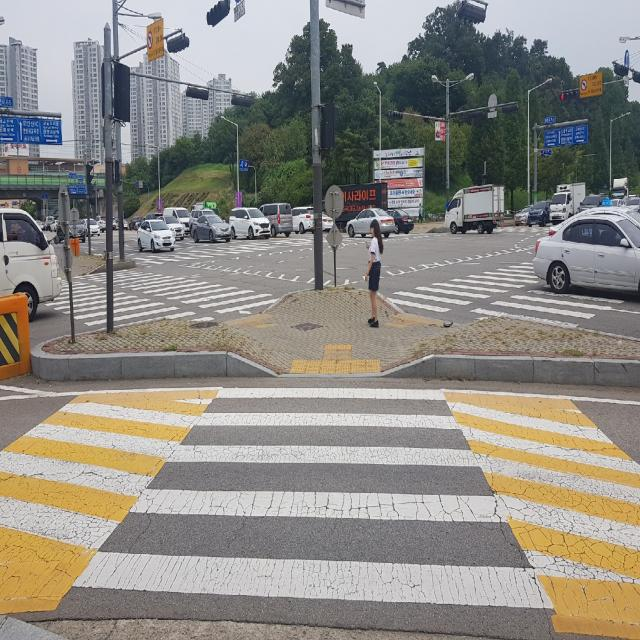횡단보도: (71, 386, 556, 610), (123, 271, 250, 311), (464, 276, 538, 304), (400, 290, 520, 306), (536, 290, 594, 316), (79, 277, 101, 320), (507, 262, 529, 281)
